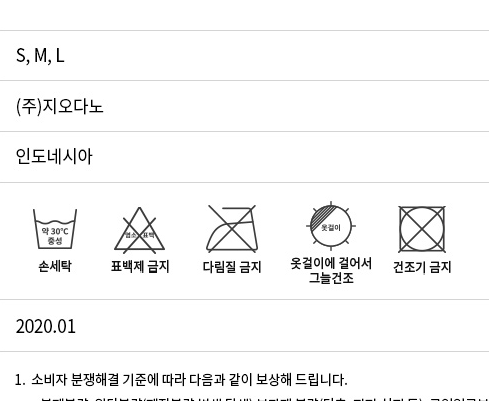KR_hand_wash_30_neutral: (28, 201, 82, 253)
KR_hang_dry_in_shade: (302, 199, 359, 251)
KR_no_chlorine_bleach: (106, 202, 167, 254)
KR_no_iron: (202, 196, 262, 256)
KR_no_tumble_dry: (395, 199, 449, 257)
